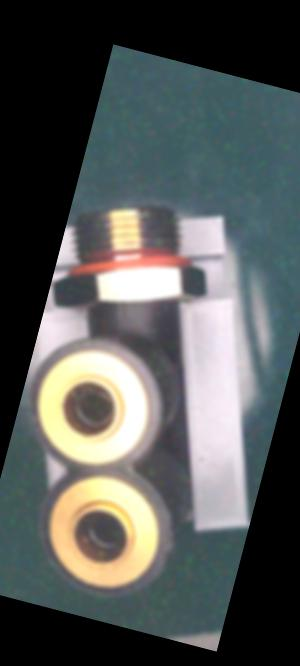bump: (158, 530, 182, 571)
off-centered: (61, 380, 121, 437)
white mark: (122, 307, 147, 331), (114, 302, 126, 323)
